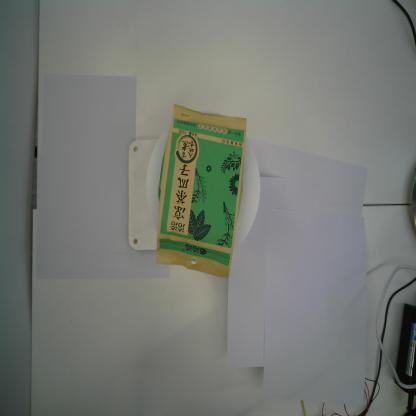Dried Food: (154, 102, 249, 283)
